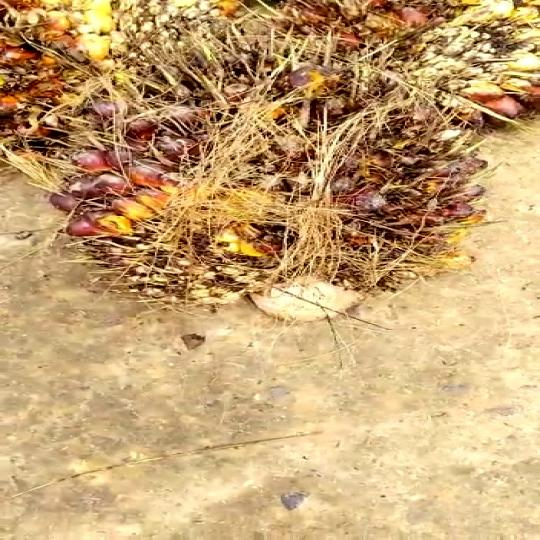masak: (67, 47, 470, 322)
